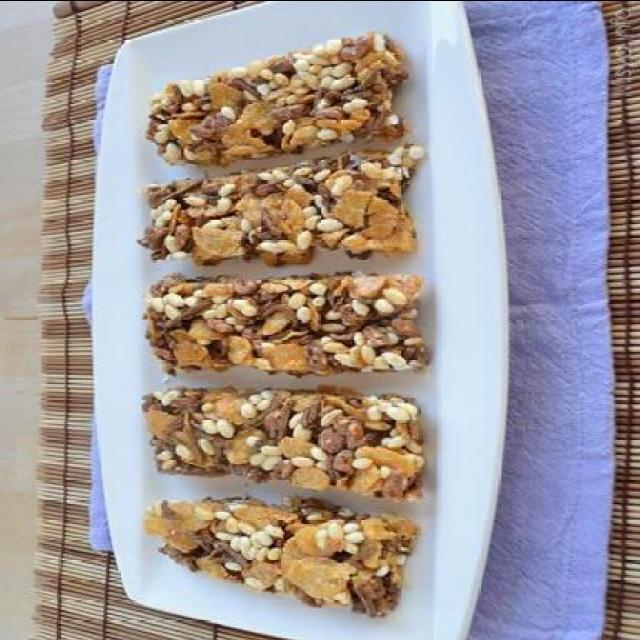Cereal bar packaged: (146, 31, 412, 163), (140, 152, 418, 264), (143, 270, 434, 376), (142, 504, 414, 612), (148, 389, 420, 493)
